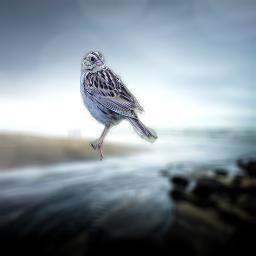Sparrow: (80, 51, 158, 161)
